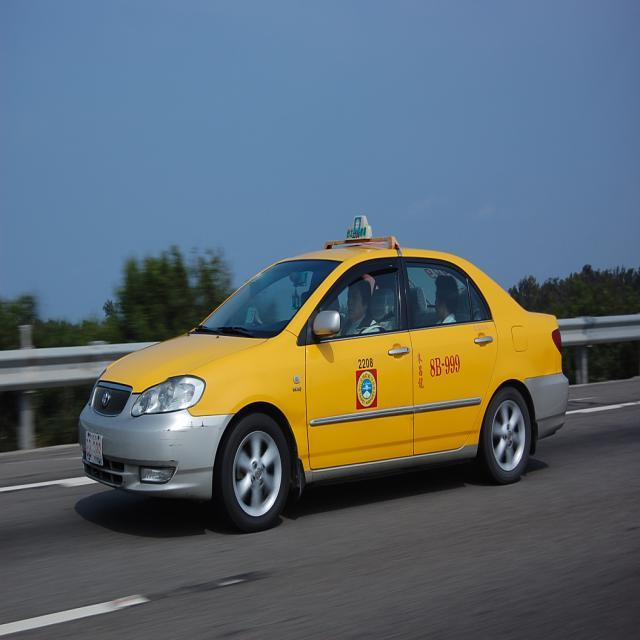taxi: (77, 208, 578, 536)
